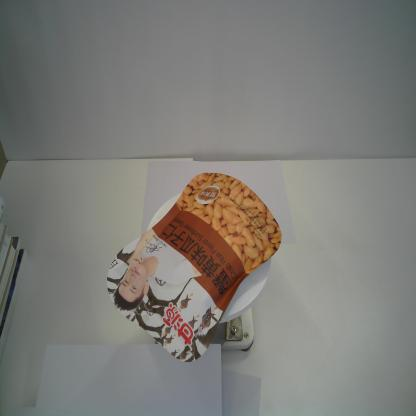Dried Fruit: (106, 171, 282, 364)
